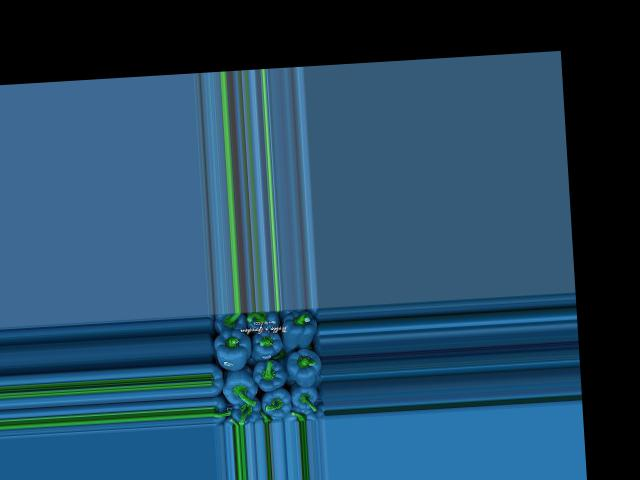bell_pepper: (209, 312, 249, 337)
